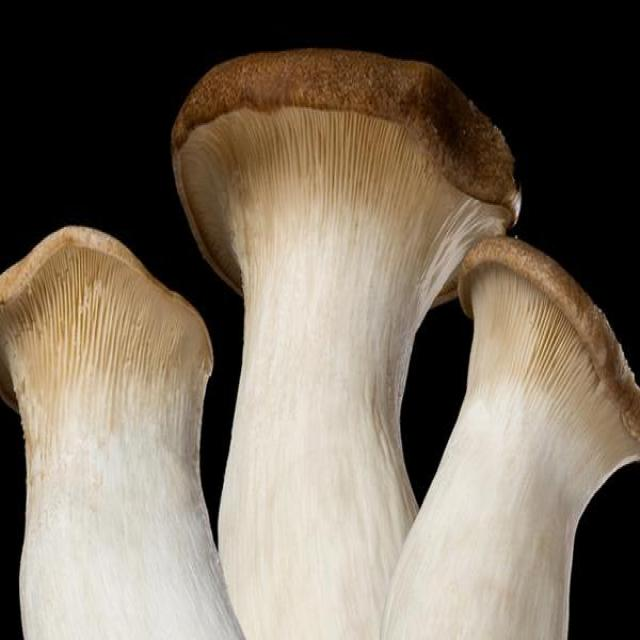Pleurotus eryngii: (173, 45, 519, 640), (383, 238, 640, 640), (0, 225, 241, 640)
